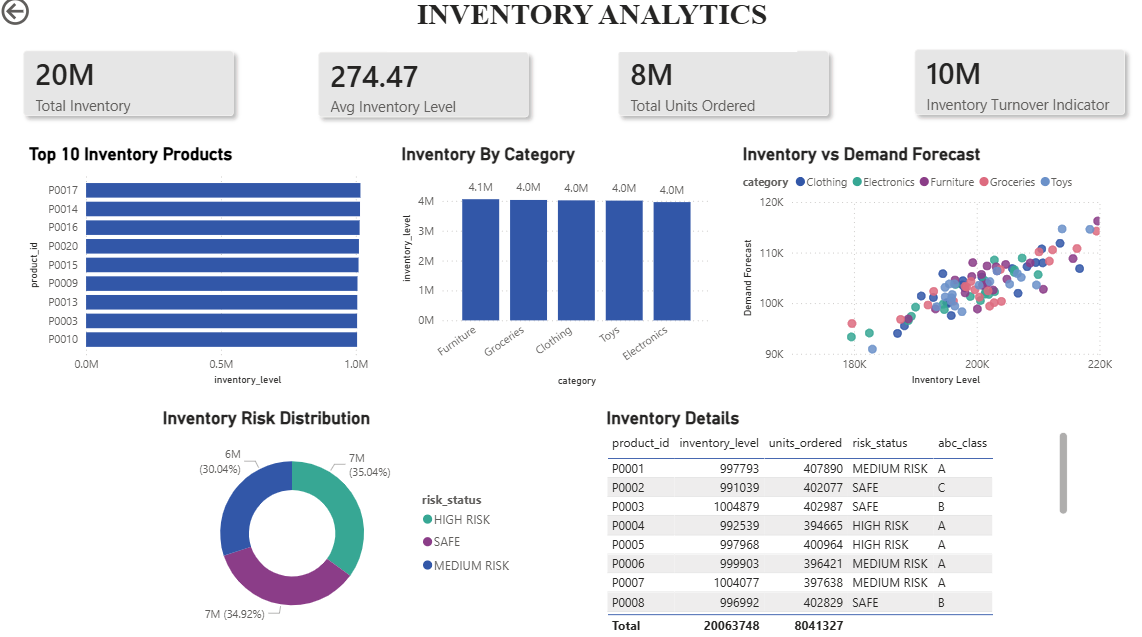

This screenshot's page, from the dashboard's own definition file:
{"tool":"powerbi","page":{"name":"Inventory Analytics","canvas":[1280,720],"ordinal":1},"visuals":[{"type":"cardVisual","fields":{"Data":["Sum(dashboard_dataset.inventory_level)"]},"box":[0,34.3,289.5,130.4],"z":0},{"type":"cardVisual","fields":{"Data":["Avg(dashboard_dataset.inventory_level)"]},"box":[323.8,35.7,289.5,130.4],"z":1000},{"type":"cardVisual","fields":{"Data":["Sum(dashboard_dataset.units_ordered)"]},"box":[653.2,34.3,289.5,130.4],"z":2000},{"type":"cardVisual","fields":{"Data":["Sum(dashboard_dataset.units_sold)"]},"box":[978.4,32.9,289.5,130.4],"z":3000},{"type":"clusteredBarChart","title":"Top 10 Inventory Products","fields":{"Category":["dashboard_dataset.product_id"],"Y":["Sum(dashboard_dataset.inventory_level)"]},"box":[30.2,166,450.1,270],"z":4000},{"type":"clusteredColumnChart","title":"Inventory By Category","fields":{"Category":["dashboard_dataset.category"],"Y":["Sum(dashboard_dataset.inventory_level)"]},"box":[439.1,166,349.9,270.3],"z":5000},{"type":"scatterChart","title":"Inventory vs Demand Forecast","fields":{"X":["Sum(dashboard_dataset.inventory_level)"],"Y":["Sum(dashboard_dataset.demand_forecast)"],"Series":["dashboard_dataset.category"],"Category":["dashboard_dataset.product_id"]},"box":[813.7,166,415.8,270],"z":6000},{"type":"donutChart","title":"Inventory Risk Distribution","fields":{"Category":["dashboard_dataset.risk_status"],"Y":["Sum(dashboard_dataset.inventory_level)"]},"box":[177,455.6,399.3,253.9],"z":7000},{"type":"tableEx","title":"Inventory Details","fields":{"Values":["dashboard_dataset.product_id","Sum(dashboard_dataset.inventory_level)","Sum(dashboard_dataset.units_ordered)","dashboard_dataset.risk_status","dashboard_dataset.abc_class"]},"box":[664.2,455.6,516,252.5],"z":8000},{"type":"actionButton","box":[0,0,100,40],"z":9000},{"type":"textbox","box":[428.1,0,450.1,64.5],"z":10000}]}

Visuals, with their boxes in screenshot pixels (x1, y1, x2, y2), scaled from the page's 1280x720 canvas onto the 1142x637 screenshot:
cardVisual - Sum(dashboard_dataset.inventory_level): (0,30,258,146)
cardVisual - Avg(dashboard_dataset.inventory_level): (289,32,547,147)
cardVisual - Sum(dashboard_dataset.units_ordered): (583,30,841,146)
cardVisual - Sum(dashboard_dataset.units_sold): (873,29,1131,144)
"Top 10 Inventory Products" clusteredBarChart: (27,147,429,386)
"Inventory By Category" clusteredColumnChart: (392,147,704,386)
"Inventory vs Demand Forecast" scatterChart: (726,147,1097,386)
"Inventory Risk Distribution" donutChart: (158,403,514,628)
"Inventory Details" tableEx: (593,403,1053,626)
actionButton: (0,0,89,35)
textbox: (382,0,784,57)
